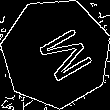M_SW: (23, 20, 89, 86)
